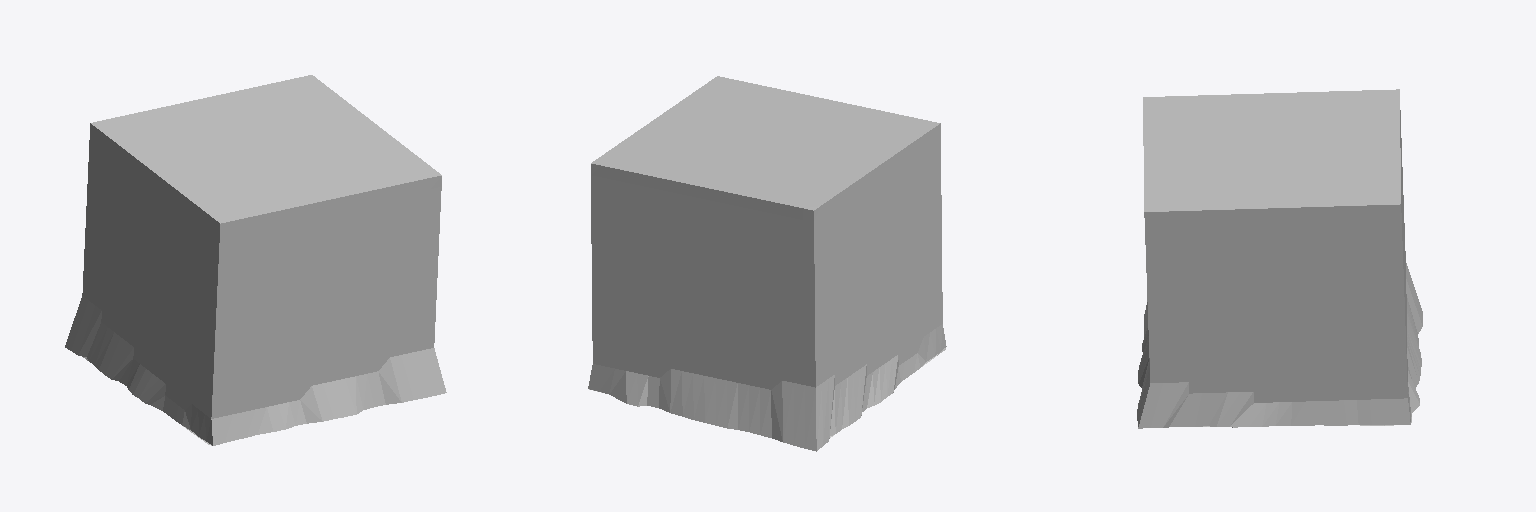
The model's file is mod0051.obj.
3 views of the same model, side by side, from view 1: azimuth 30°, elevation 25°; view 2: azimuth 150°, elevation 25°; view 3: azimuth 270°, elevation 25° (orthographic).
Visible parts, largest first — view 1: Box001; view 2: Box001; view 3: Box001.
Part boxes in pixels (bbox=[...]): Box001: bbox=[65, 75, 446, 445]; Box001: bbox=[588, 76, 946, 451]; Box001: bbox=[1137, 89, 1422, 428].
Bounding box in the file's own units: 0.5799 × 0.5307 × 0.5979.